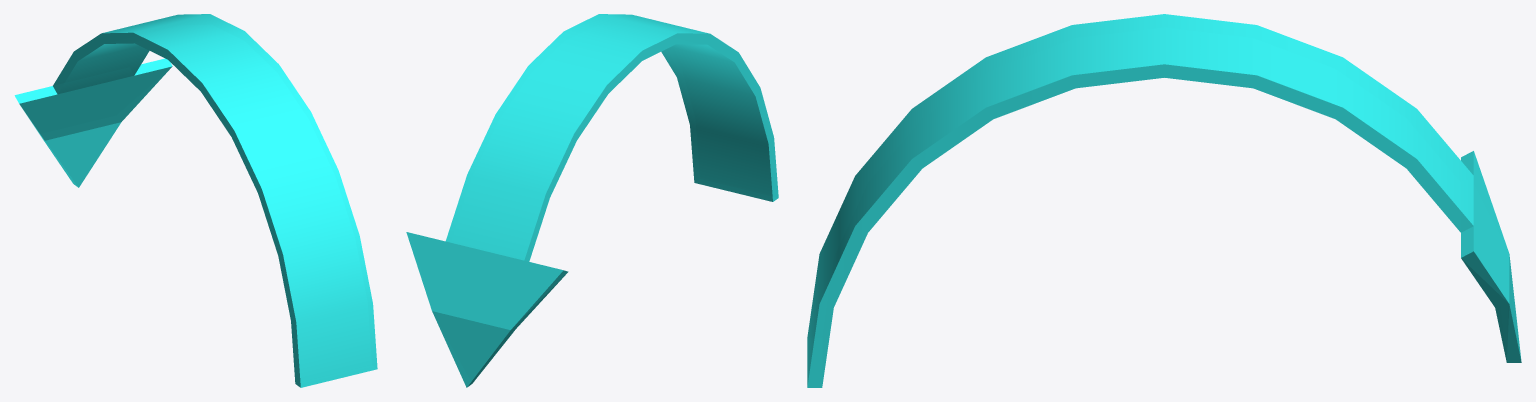
File: Arrow curved.dae
3 views of the same model, side by side, from view 1: azimuth 30°, elevation 25°; view 2: azimuth 150°, elevation 25°; view 3: azimuth 270°, elevation 25° (orthographic). The views are drawn at different scales.
Visible parts, largest first — view 1: group_0, group_1; view 2: group_0, group_1; view 3: group_0, group_1.
Boxes of the visible parts, x1=… form: group_0: x1=53, y1=14, x2=377, y2=387; group_1: x1=14, y1=58, x2=172, y2=187; group_0: x1=446, y1=14, x2=778, y2=261; group_1: x1=406, y1=232, x2=568, y2=387; group_0: x1=807, y1=14, x2=1473, y2=387; group_1: x1=1461, y1=151, x2=1521, y2=362.
Bounding box in the file's own units: 8 × 24 × 12.
